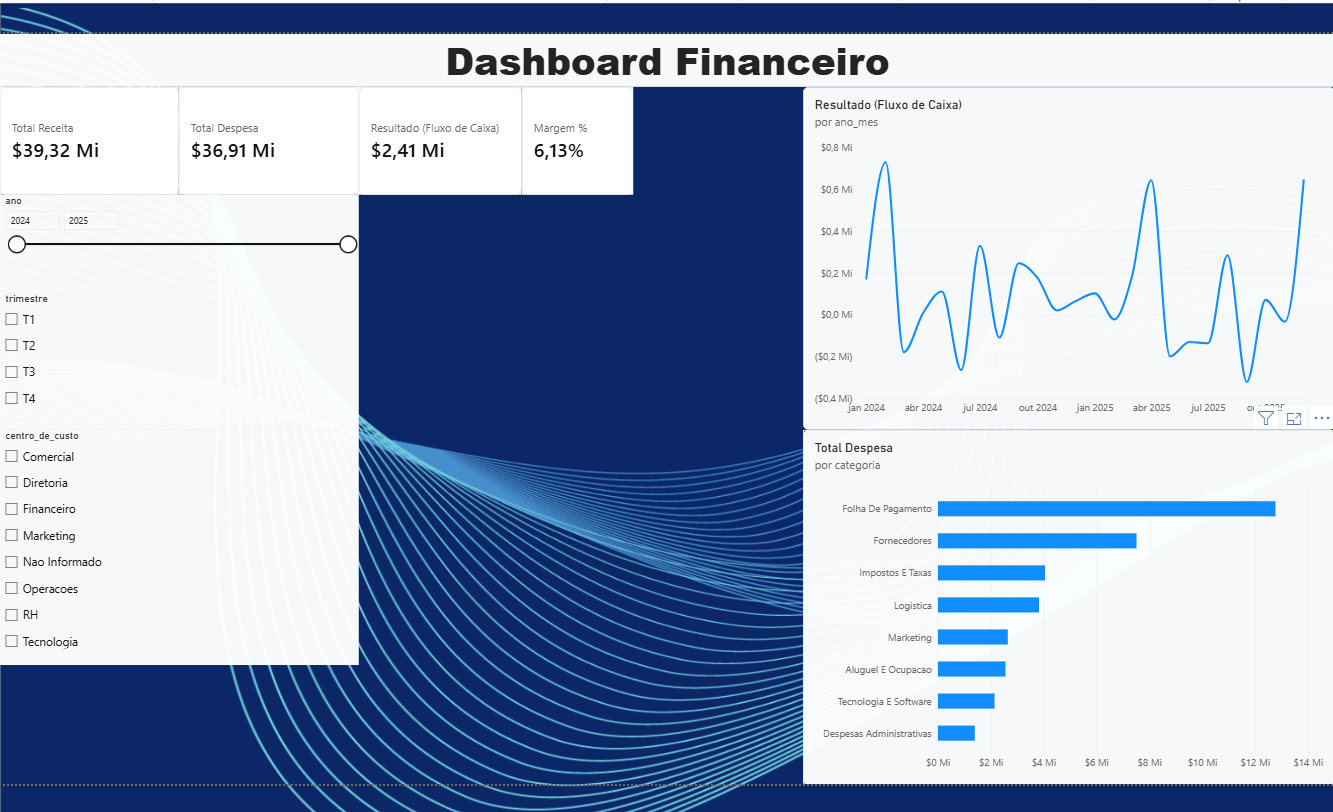

This screenshot's page, from the dashboard's own definition file:
{"tool":"powerbi","page":{"name":"Página 1","canvas":[1920,1080],"ordinal":0},"visuals":[{"type":"lineChart","fields":{"Category":["Dim_Calendario.ano_mes"],"Y":["medidas.Resultado (Fluxo de Caixa)"]},"box":[1154.9,76.2,765.1,493.3],"z":0},{"type":"clusteredBarChart","fields":{"Category":["Dim_Categoria.categoria"],"Y":["medidas.Total Despesa"]},"box":[1154.9,569.5,765.1,510.6],"z":1000},{"type":"cardVisual","fields":{"Data":["medidas.Total Receita"]},"box":[0,76.2,257.4,155.3],"z":2000},{"type":"cardVisual","fields":{"Data":["medidas.Total Despesa"]},"box":[257.4,76.2,258.9,155.3],"z":3000},{"type":"cardVisual","fields":{"Data":["medidas.Resultado (Fluxo de Caixa)"]},"box":[516.3,76.2,234.4,155.3],"z":4000},{"type":"cardVisual","fields":{"Data":["medidas.Margem %"]},"box":[750.7,76.2,159.6,155.3],"z":5000},{"type":"slicer","fields":{"Values":["Dim_Calendario.ano"]},"box":[0,231.6,516.3,140.9],"z":6000},{"type":"slicer","fields":{"Values":["Dim_Calendario.trimestre"]},"box":[0,372.5,516.3,197],"z":7000},{"type":"slicer","fields":{"Values":["Dim_CentroCusto.centro_de_custo"]},"box":[0,569.5,516.3,338],"z":8000},{"type":"textbox","box":[0,0,1920,76.2],"z":9000}]}

Visuals, with their boxes on the page's 1920x1080 design canvas (x1, y1, x2, y2). These are canvas units, not pixel positions in the 1333x812 screenshot, which may show the page scaled, cropped or inside an application window:
lineChart - Dim_Calendario.ano_mes x medidas.Resultado (Fluxo de Caixa): bbox(1155, 76, 1920, 570)
clusteredBarChart - Dim_Categoria.categoria x medidas.Total Despesa: bbox(1155, 570, 1920, 1080)
cardVisual - medidas.Total Receita: bbox(0, 76, 257, 232)
cardVisual - medidas.Total Despesa: bbox(257, 76, 516, 232)
cardVisual - medidas.Resultado (Fluxo de Caixa): bbox(516, 76, 751, 232)
cardVisual - medidas.Margem %: bbox(751, 76, 910, 232)
slicer - Dim_Calendario.ano: bbox(0, 232, 516, 372)
slicer - Dim_Calendario.trimestre: bbox(0, 372, 516, 570)
slicer - Dim_CentroCusto.centro_de_custo: bbox(0, 570, 516, 908)
textbox: bbox(0, 0, 1920, 76)
